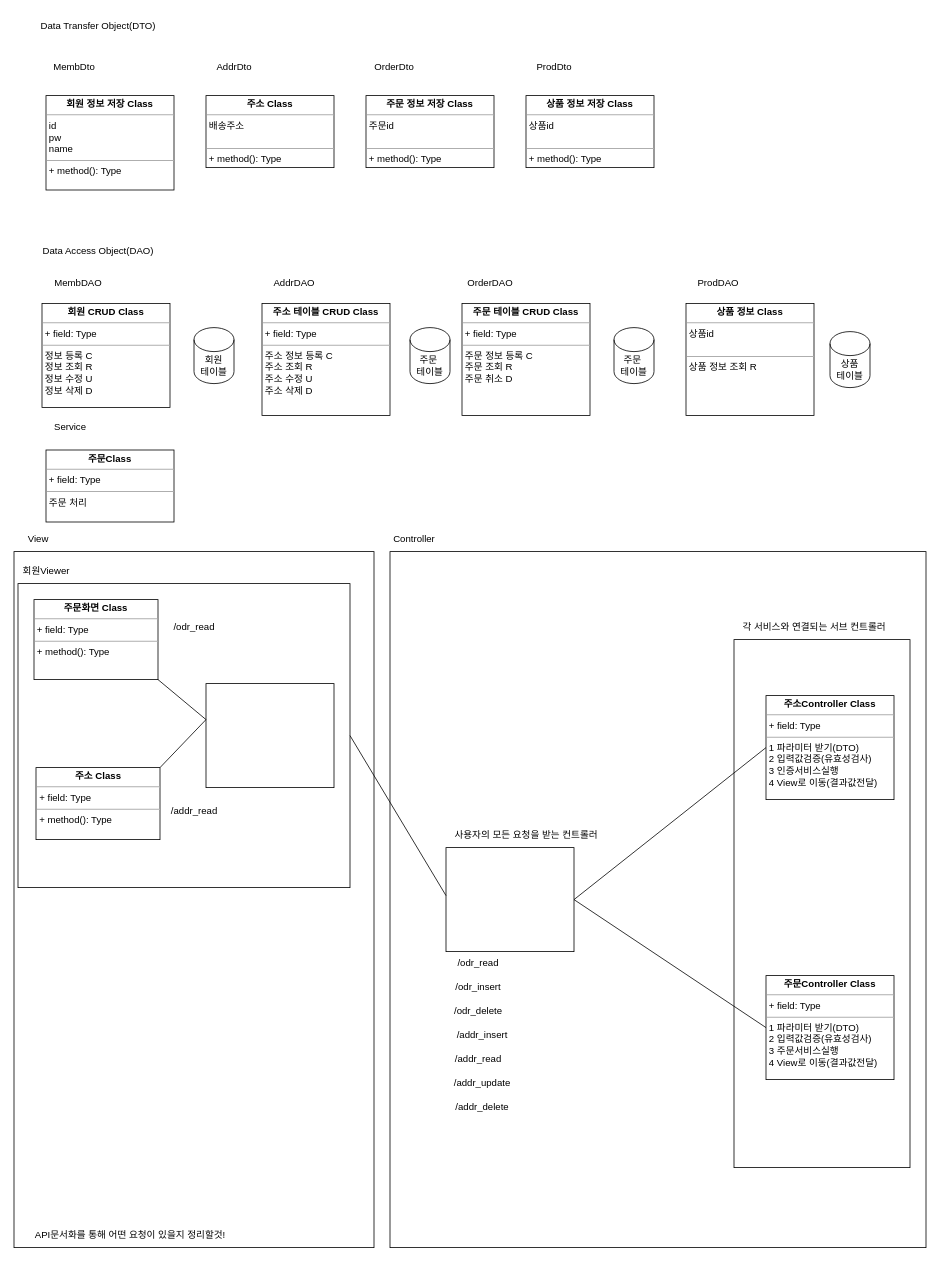
Image size: 940x1262. Some labels were removed from this diagram. The centre of each missing label's shape, as x and y in pixels:
"FrontController Class + field: Type + method(): Type" belongs at (x=509, y=899).
"메인 화면 Class + field: Type + method(): Type" belongs at (x=269, y=735).
